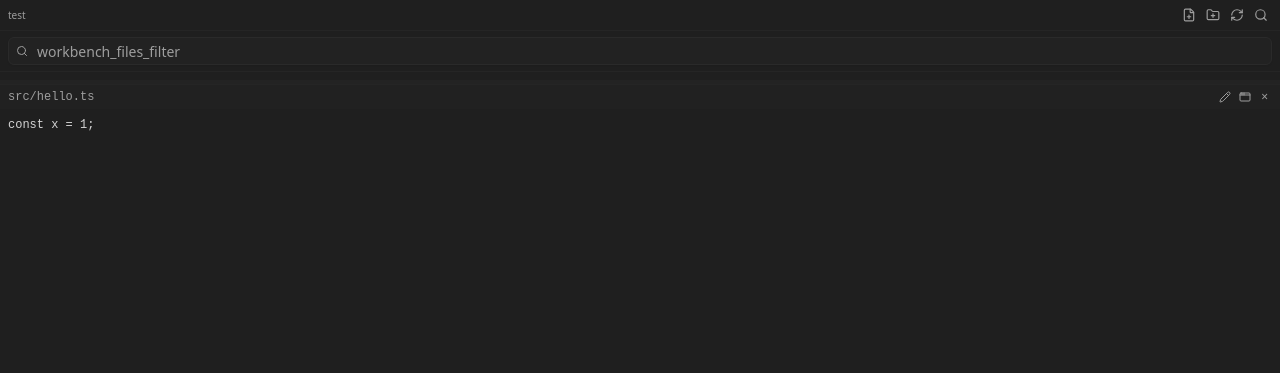
Test: FilesTab inline editor › clicar no Pencil exibe textarea inline-editor-textarea
Click the button named "workbench_files_edit": {"x": 1225, "y": 97} [1217,89,1233,105]
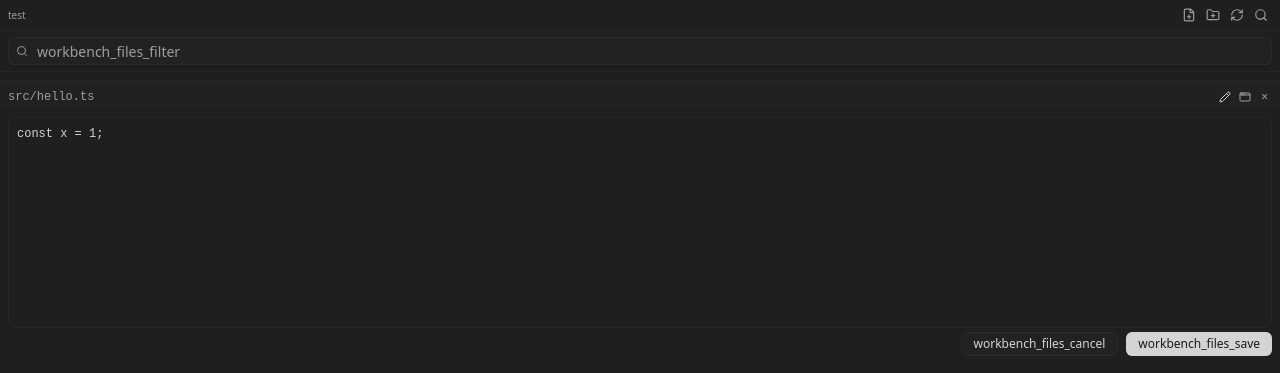
Check: the text box with test id "inline-editor-textarea" is shown, box [8,117,1272,328]
